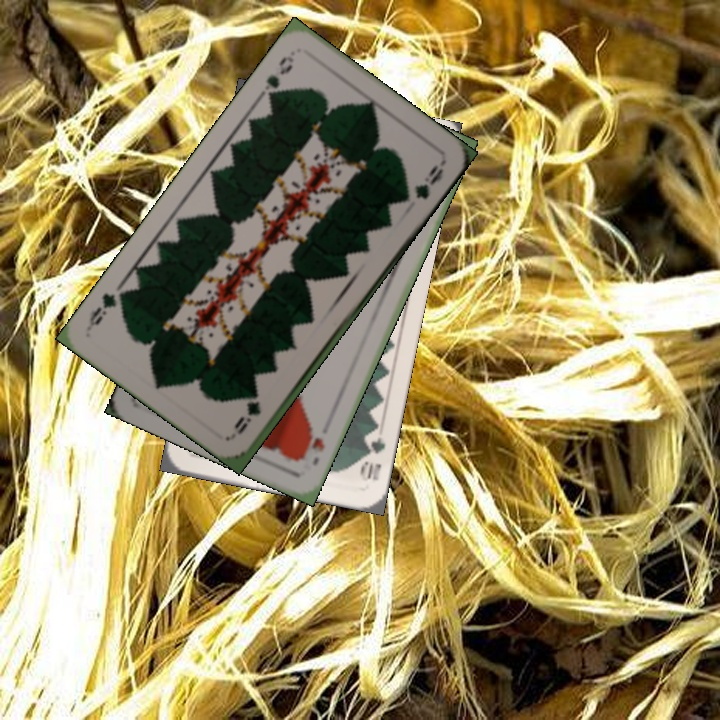G10: (355, 432, 388, 484)
G9: (257, 51, 297, 104), (231, 396, 263, 438)
HO: (294, 429, 328, 468)
